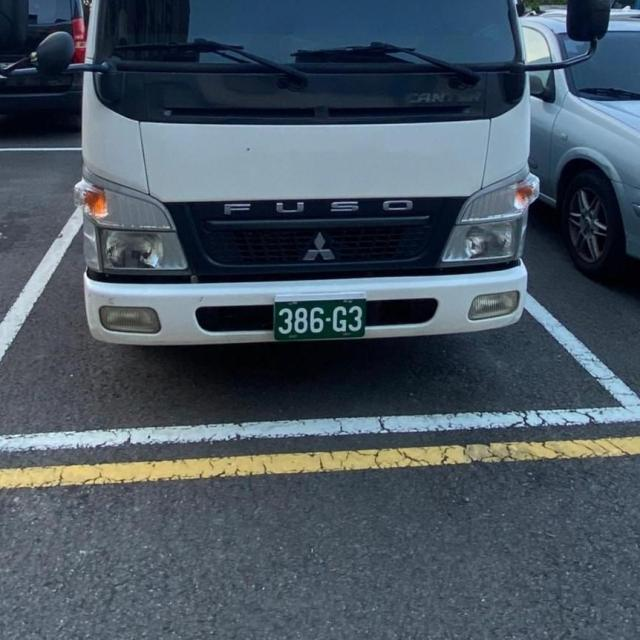GW: (265, 290, 373, 343)
